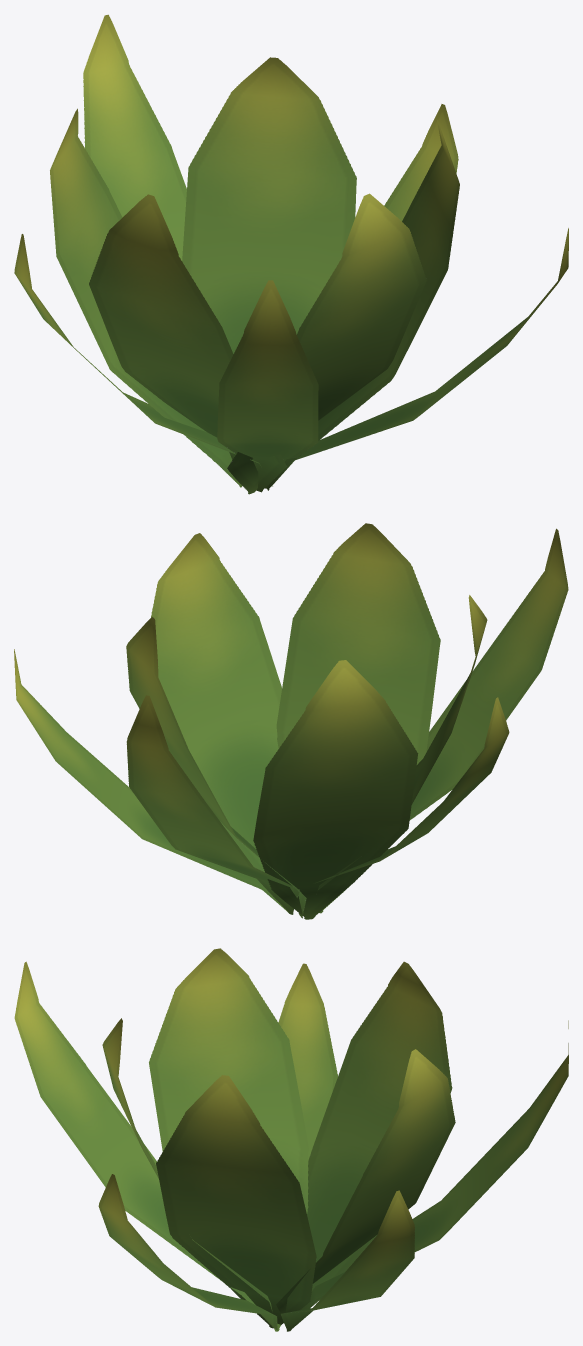
The model's file is SimpleFoliage_V1.fbx.
The picture shows the model from 3 angles, top to bottom: view 1: azimuth 30°, elevation 25°; view 2: azimuth 150°, elevation 25°; view 3: azimuth 270°, elevation 25°; orthographic projection. The views are drawn at different scales.
Visible parts, largest first — view 1: polySurface17; view 2: polySurface17; view 3: polySurface17.
Part boxes in pixels (bbox=[...]): polySurface17: bbox=[14, 14, 568, 494]; polySurface17: bbox=[14, 523, 568, 919]; polySurface17: bbox=[14, 948, 568, 1331].
Size of the model in its own units: 5.18 by 3.66 by 5.83.
